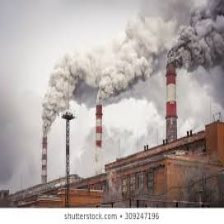smoke: (29, 3, 223, 123)
